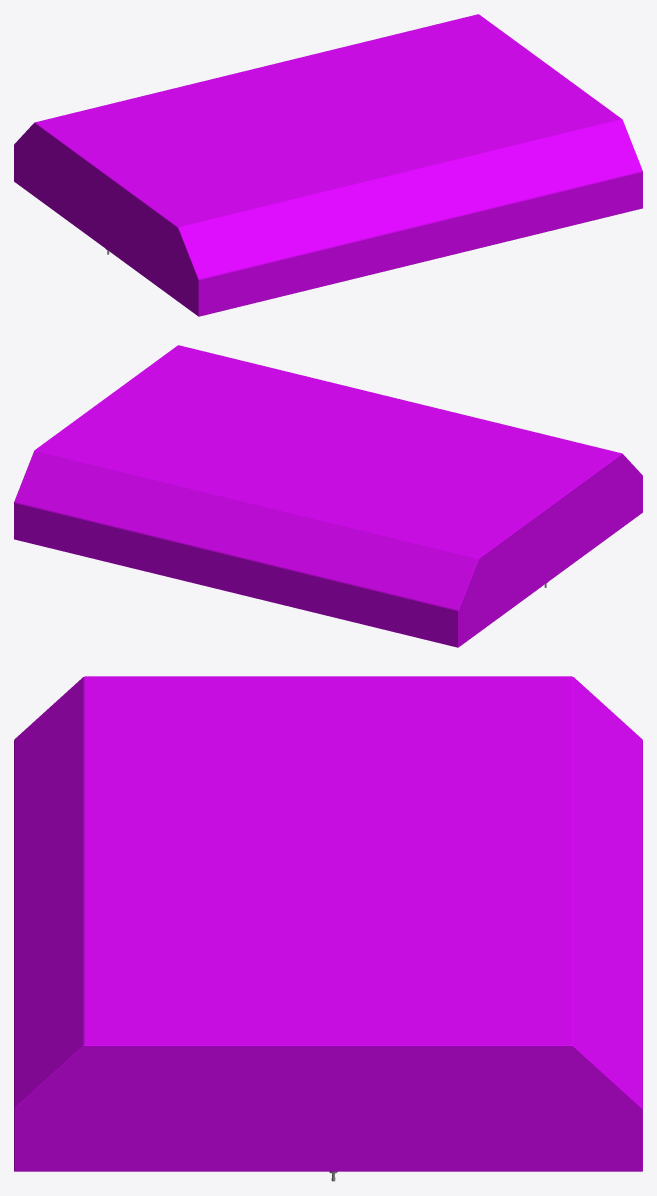
The model's file is Aspirator_Big.FBX.
3 renders of one model, top to bottom at view 1: azimuth 30°, elevation 25°; view 2: azimuth 150°, elevation 25°; view 3: azimuth 270°, elevation 25°, orthographic. The views are drawn at different scales.
Visible parts, largest first — view 1: Aspirator_Big; view 2: Aspirator_Big; view 3: Aspirator_Big.
Boxes of the visible parts, x1=… form: Aspirator_Big: x1=14, y1=14, x2=642, y2=316; Aspirator_Big: x1=14, y1=345, x2=642, y2=647; Aspirator_Big: x1=14, y1=676, x2=642, y2=1181.
Bounding box in the file's own units: 2500 × 437 × 1800.
